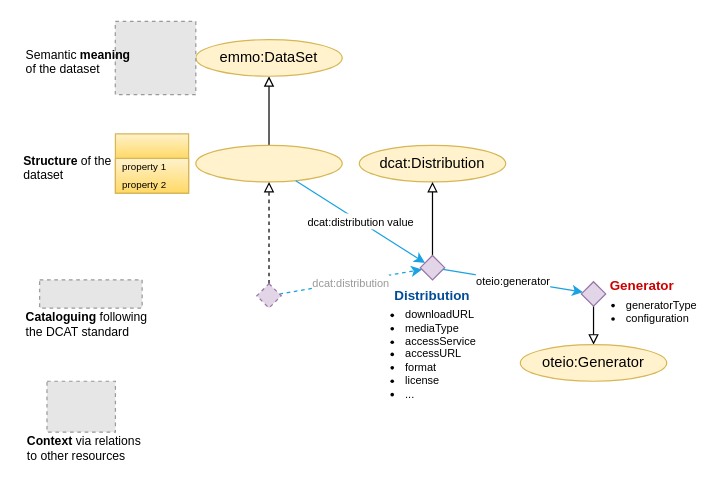
This 717x488 diagram has some shape labels left out. Grey dashed boxes stand in for pictures. The shapes that lost their labels are listed below. From the top down, each one's centre as x and y in pixels, then its label:
At [151,163]: "Datamodel".
At [268,163]: "datasetSubclass".
